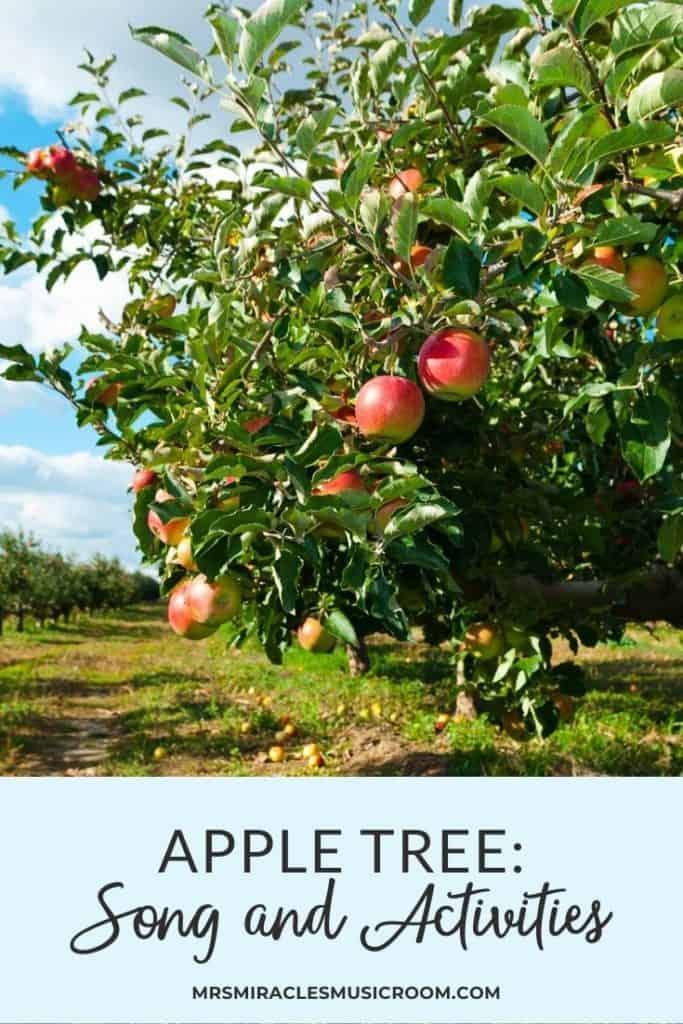apple: (335, 375, 427, 441), (420, 325, 487, 397)
